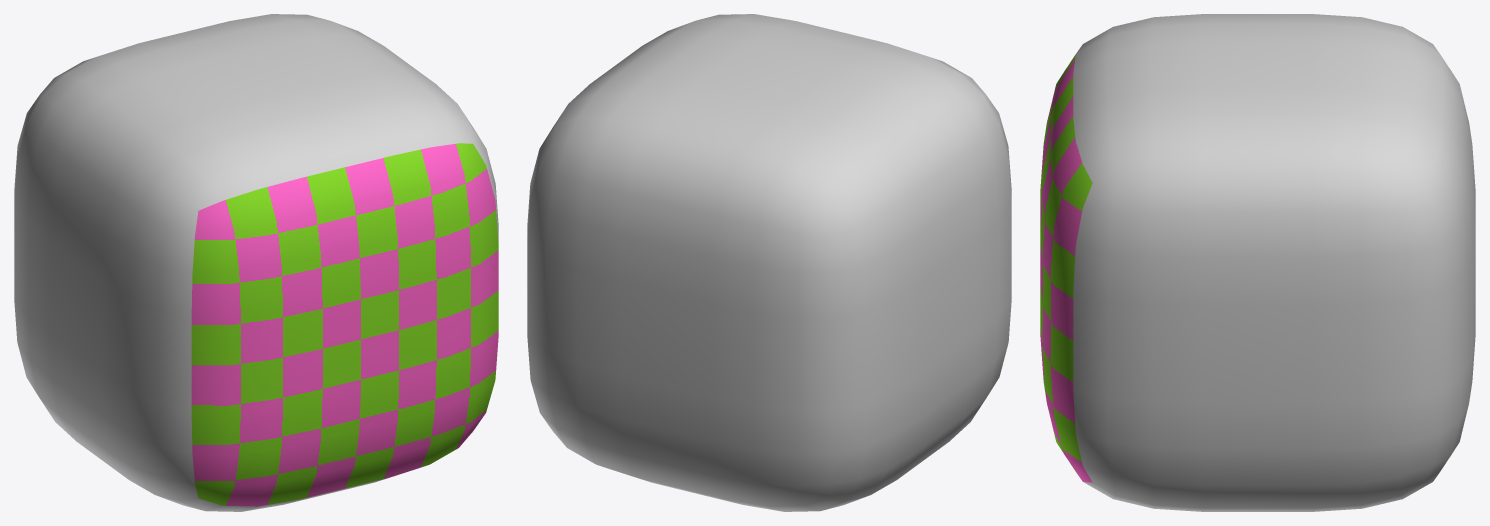
Rendered from subdv_cube.fbx.
The picture shows the model from 3 angles, left to right: view 1: azimuth 30°, elevation 25°; view 2: azimuth 150°, elevation 25°; view 3: azimuth 270°, elevation 25°; orthographic projection. The views are drawn at different scales.
Parts seen in each view (by area): view 1: Cube; view 2: Cube; view 3: Cube.
Boxes of the visible parts, x1=… form: Cube: x1=14, y1=14, x2=498, y2=511; Cube: x1=527, y1=14, x2=1011, y2=511; Cube: x1=1040, y1=14, x2=1475, y2=511.
Bounding box in the file's own units: 3.74 × 3.74 × 3.74.
Materials: 2 (1 with a texture image).
